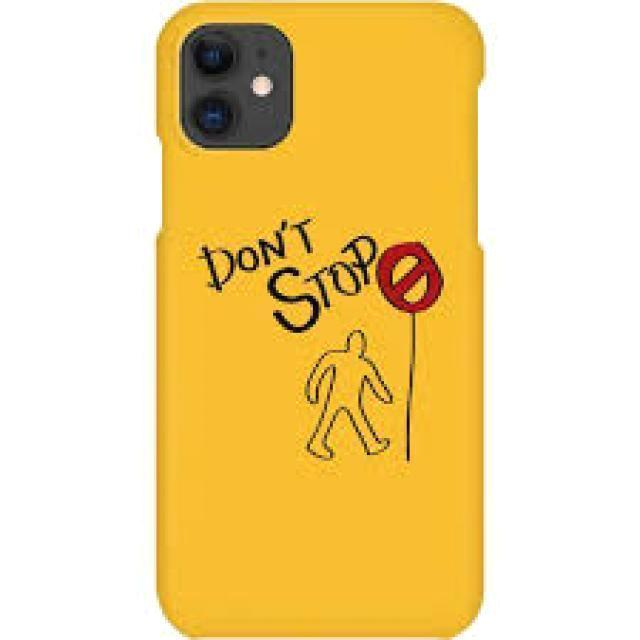lens: (182, 23, 290, 148)
phone: (158, 1, 488, 634)
